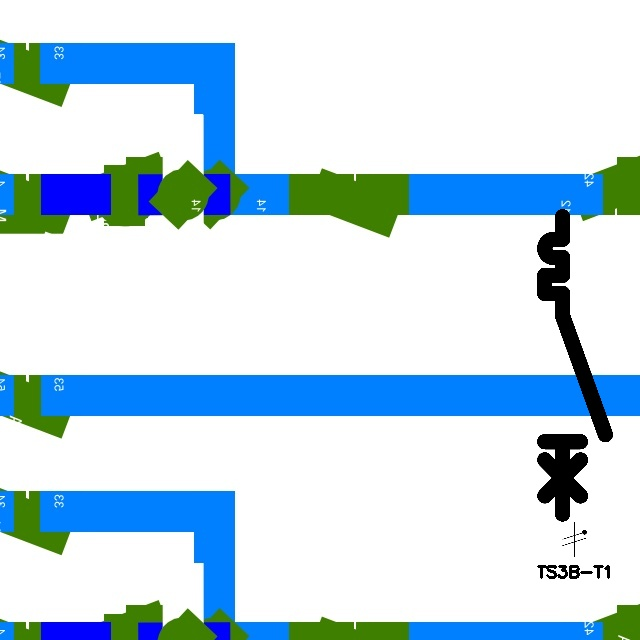interruptor_termomagnetico: (537, 209, 613, 521)
